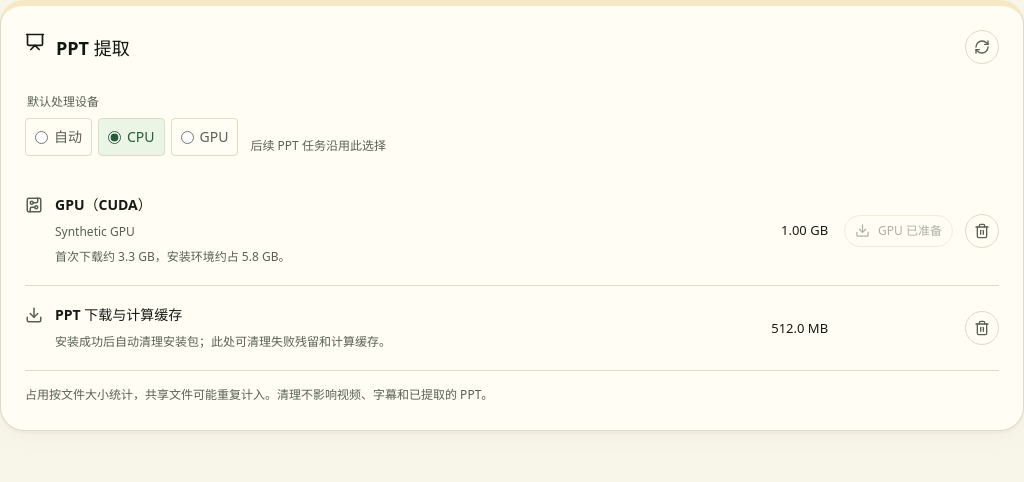
persists device selection independently of preparation
Click the radio button labelled "GPU". click: point(187, 137)
box: [181,131,194,144]
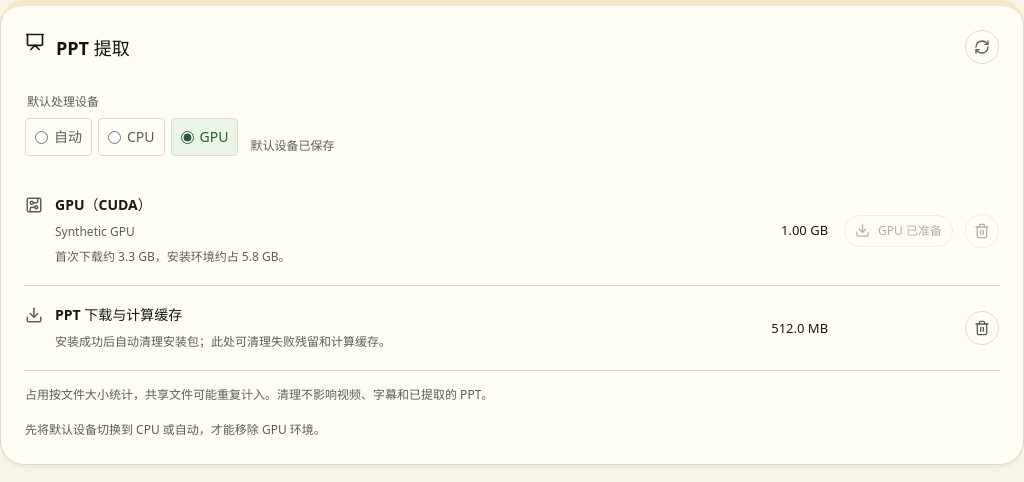
Expected: the button named "清理 PPT 下载缓存" is enabled, [965,311,999,345]
Now the text "默认设备已保存" is shown, box [250,136,334,156]
Now the button named "清理 PPT GPU 环境及缓存" is disabled, box [965,214,999,248]
